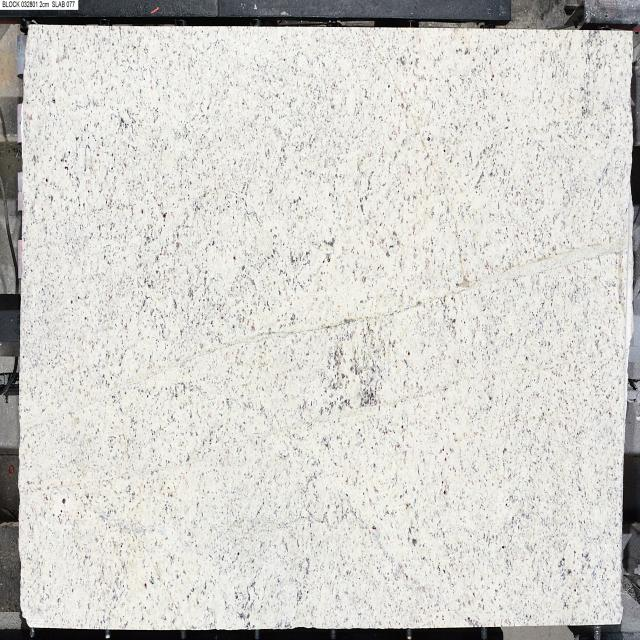chapa: (19, 25, 631, 630)
